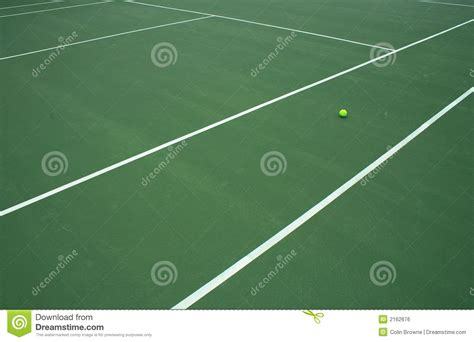tennis_ball: (338, 108, 348, 117)
